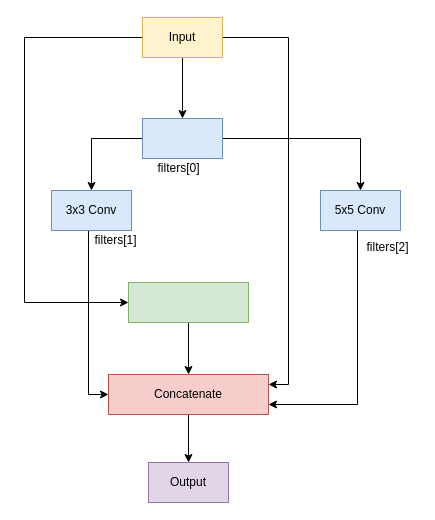
The diagram is 435 pixels wide and 520 high, and some of its shapes have lost their labels. The box of each missing label's shape, as (x1, y1, x2, y2) in pixels:
1x1 Conv: (142, 118, 222, 158)
MaxPooling: (128, 282, 248, 322)
